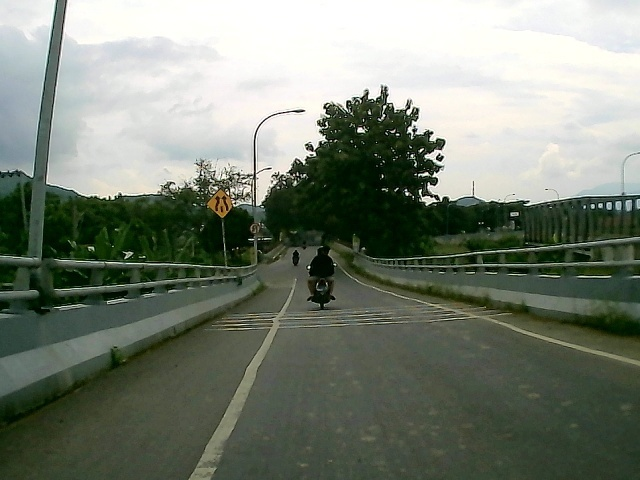Akhir bangunan pemisah satu arah: (203, 186, 234, 221)
